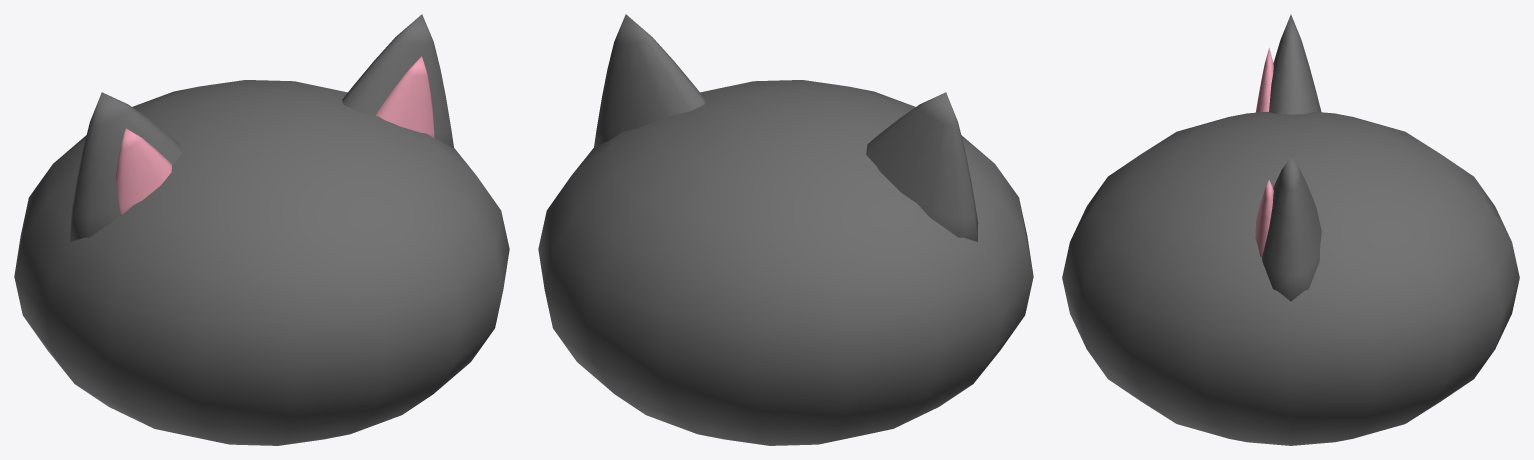
Rendered from hat_cat_ears.glb.
3 views of the same model, side by side, from view 1: azimuth 30°, elevation 25°; view 2: azimuth 150°, elevation 25°; view 3: azimuth 270°, elevation 25° (orthographic). The views are drawn at different scales.
Parts seen in each view (by area): view 1: HatCatEars; view 2: HatCatEars; view 3: HatCatEars.
Boxes of the visible parts, left/top/right/bottom form: HatCatEars: left=14, top=14, right=509, bottom=445; HatCatEars: left=538, top=14, right=1033, bottom=445; HatCatEars: left=1062, top=14, right=1519, bottom=445.
Size of the model in its own units: 0.42 by 0.3346 by 0.42.
